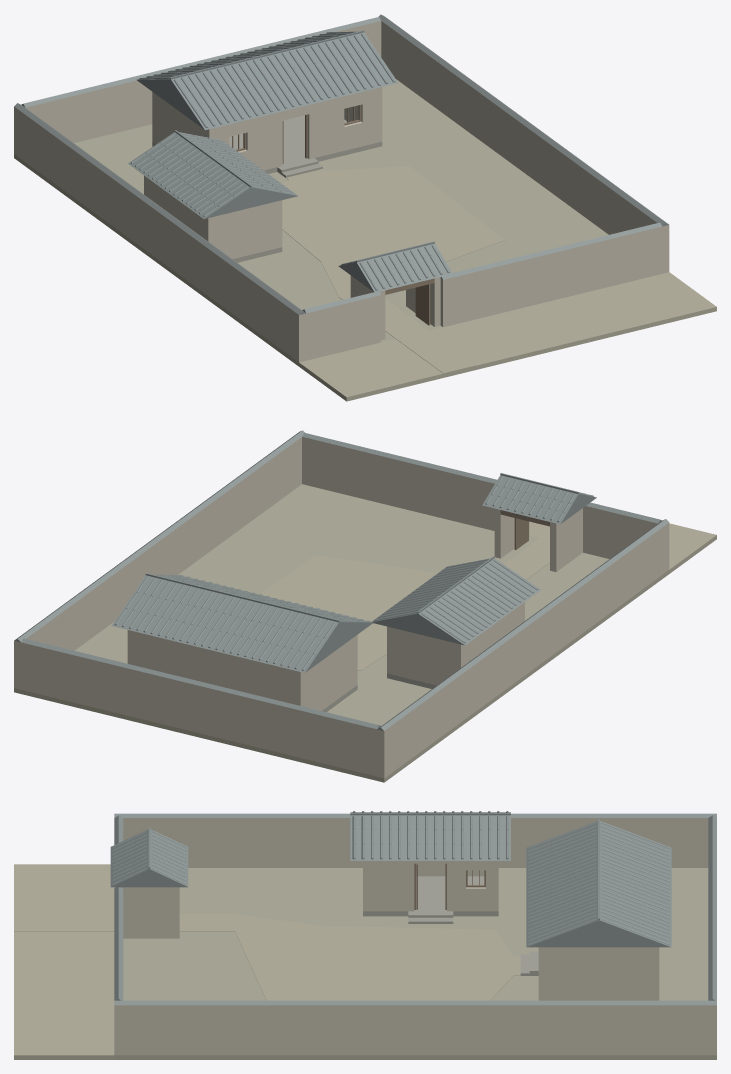
3 views of the same model, one above another, from view 1: azimuth 30°, elevation 25°; view 2: azimuth 150°, elevation 25°; view 3: azimuth 270°, elevation 25° (orthographic). The views are drawn at different scales.
Parts seen in each view (by area): view 1: architecture_C_whitebox_earth_wall.001, architecture_C_roof_rhythm_not_glaze_copy.001, site_lot, designed_hardpacked_activity_ground, site_neutral_lane, architecture_C_floor_plinth.001, architecture_C_plain_timber.001; view 2: architecture_C_whitebox_earth_wall.001, architecture_C_roof_rhythm_not_glaze_copy.001, site_lot, designed_hardpacked_activity_ground, site_neutral_lane, architecture_C_plain_timber.001; view 3: architecture_C_whitebox_earth_wall.001, architecture_C_roof_rhythm_not_glaze_copy.001, site_lot, designed_hardpacked_activity_ground, site_neutral_lane, architecture_C_floor_plinth.001, architecture_C_plain_timber.001.
Boxes of the visible parts, x1=… form: architecture_C_whitebox_earth_wall.001: x1=14, y1=21, x2=669, y2=362; architecture_C_roof_rhythm_not_glaze_copy.001: x1=14, y1=14, x2=668, y2=314; site_lot: x1=14, y1=79, x2=608, y2=366; designed_hardpacked_activity_ground: x1=281, y1=166, x2=504, y2=373; site_neutral_lane: x1=299, y1=272, x2=716, y2=401; architecture_C_floor_plinth.001: x1=152, y1=115, x2=382, y2=262; architecture_C_plain_timber.001: x1=232, y1=105, x2=434, y2=325; architecture_C_whitebox_earth_wall.001: x1=14, y1=437, x2=669, y2=778; architecture_C_roof_rhythm_not_glaze_copy.001: x1=14, y1=430, x2=669, y2=730; site_lot: x1=14, y1=484, x2=669, y2=782; designed_hardpacked_activity_ground: x1=260, y1=530, x2=549, y2=670; site_neutral_lane: x1=529, y1=521, x2=716, y2=573; architecture_C_plain_timber.001: x1=500, y1=510, x2=549, y2=549; architecture_C_whitebox_earth_wall.001: x1=114, y1=818, x2=716, y2=1055; architecture_C_roof_rhythm_not_glaze_copy.001: x1=110, y1=811, x2=716, y2=1005; site_lot: x1=114, y1=868, x2=716, y2=1059; designed_hardpacked_activity_ground: x1=14, y1=914, x2=520, y2=1000; site_neutral_lane: x1=14, y1=864, x2=114, y2=1059; architecture_C_floor_plinth.001: x1=363, y1=876, x2=538, y2=975; architecture_C_plain_timber.001: x1=414, y1=863, x2=485, y2=909.
Bounding box in the file's own units: 18 × 4.49 × 28.
